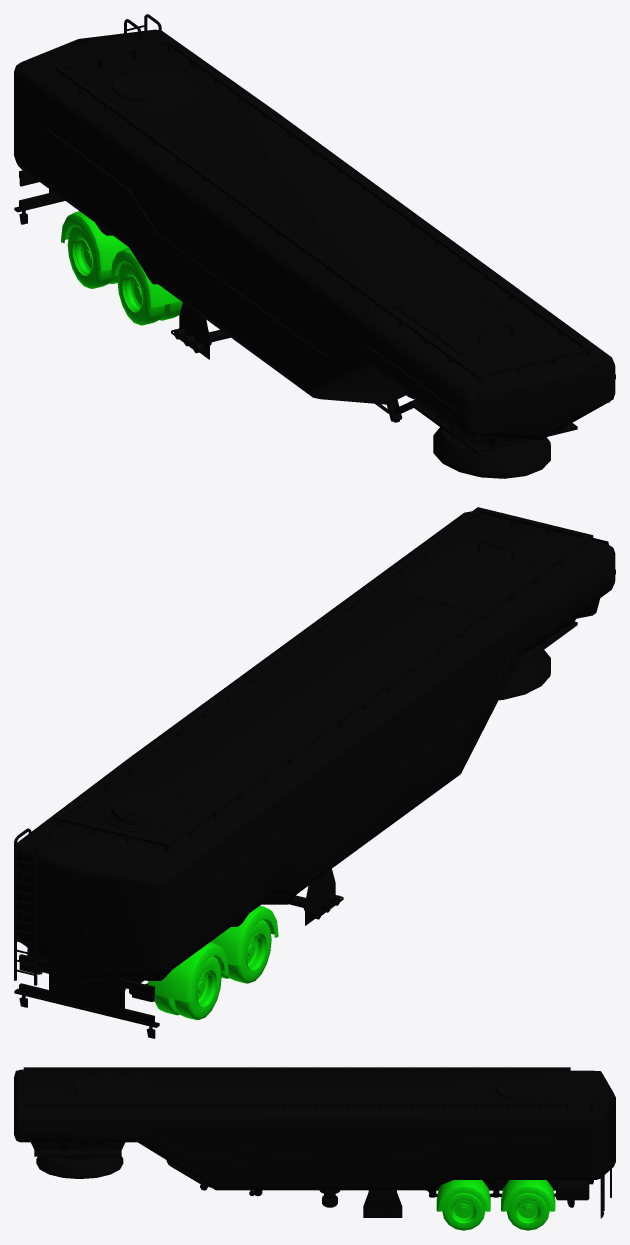
The model's file is SM_Refueler_P1.fbx.
The picture shows the model from 3 angles, top to bottom: view 1: azimuth 30°, elevation 25°; view 2: azimuth 150°, elevation 25°; view 3: azimuth 270°, elevation 25°; orthographic projection. The views are drawn at different scales.
Parts seen in each view (by area): view 1: SM_Refueler_P1_LOD0; view 2: SM_Refueler_P1_LOD0; view 3: SM_Refueler_P1_LOD0.
Part boxes in pixels (<box>): SM_Refueler_P1_LOD0: <box>14,14,615,478</box>; SM_Refueler_P1_LOD0: <box>14,507,615,1038</box>; SM_Refueler_P1_LOD0: <box>14,1067,615,1230</box>.
Size of what is drawn, in the model's own units: 303 by 372 by 1554.
